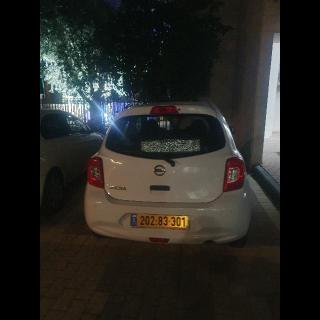LicensePlate: (138, 215, 188, 228)
